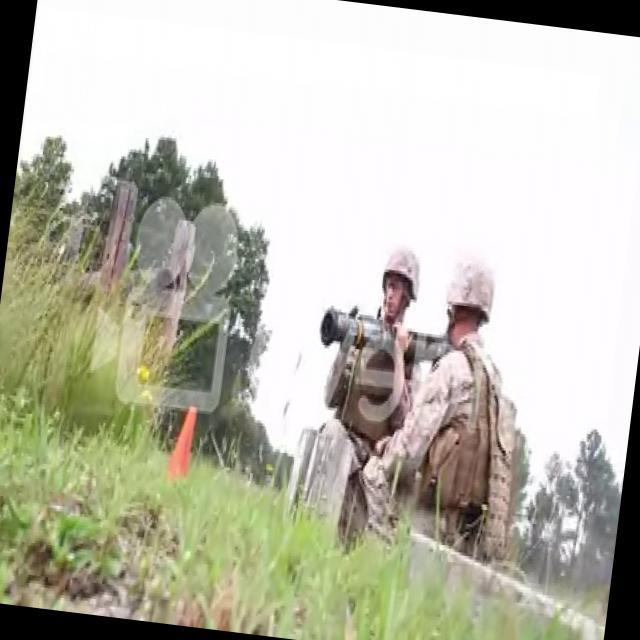rocket: (318, 306, 442, 362)
